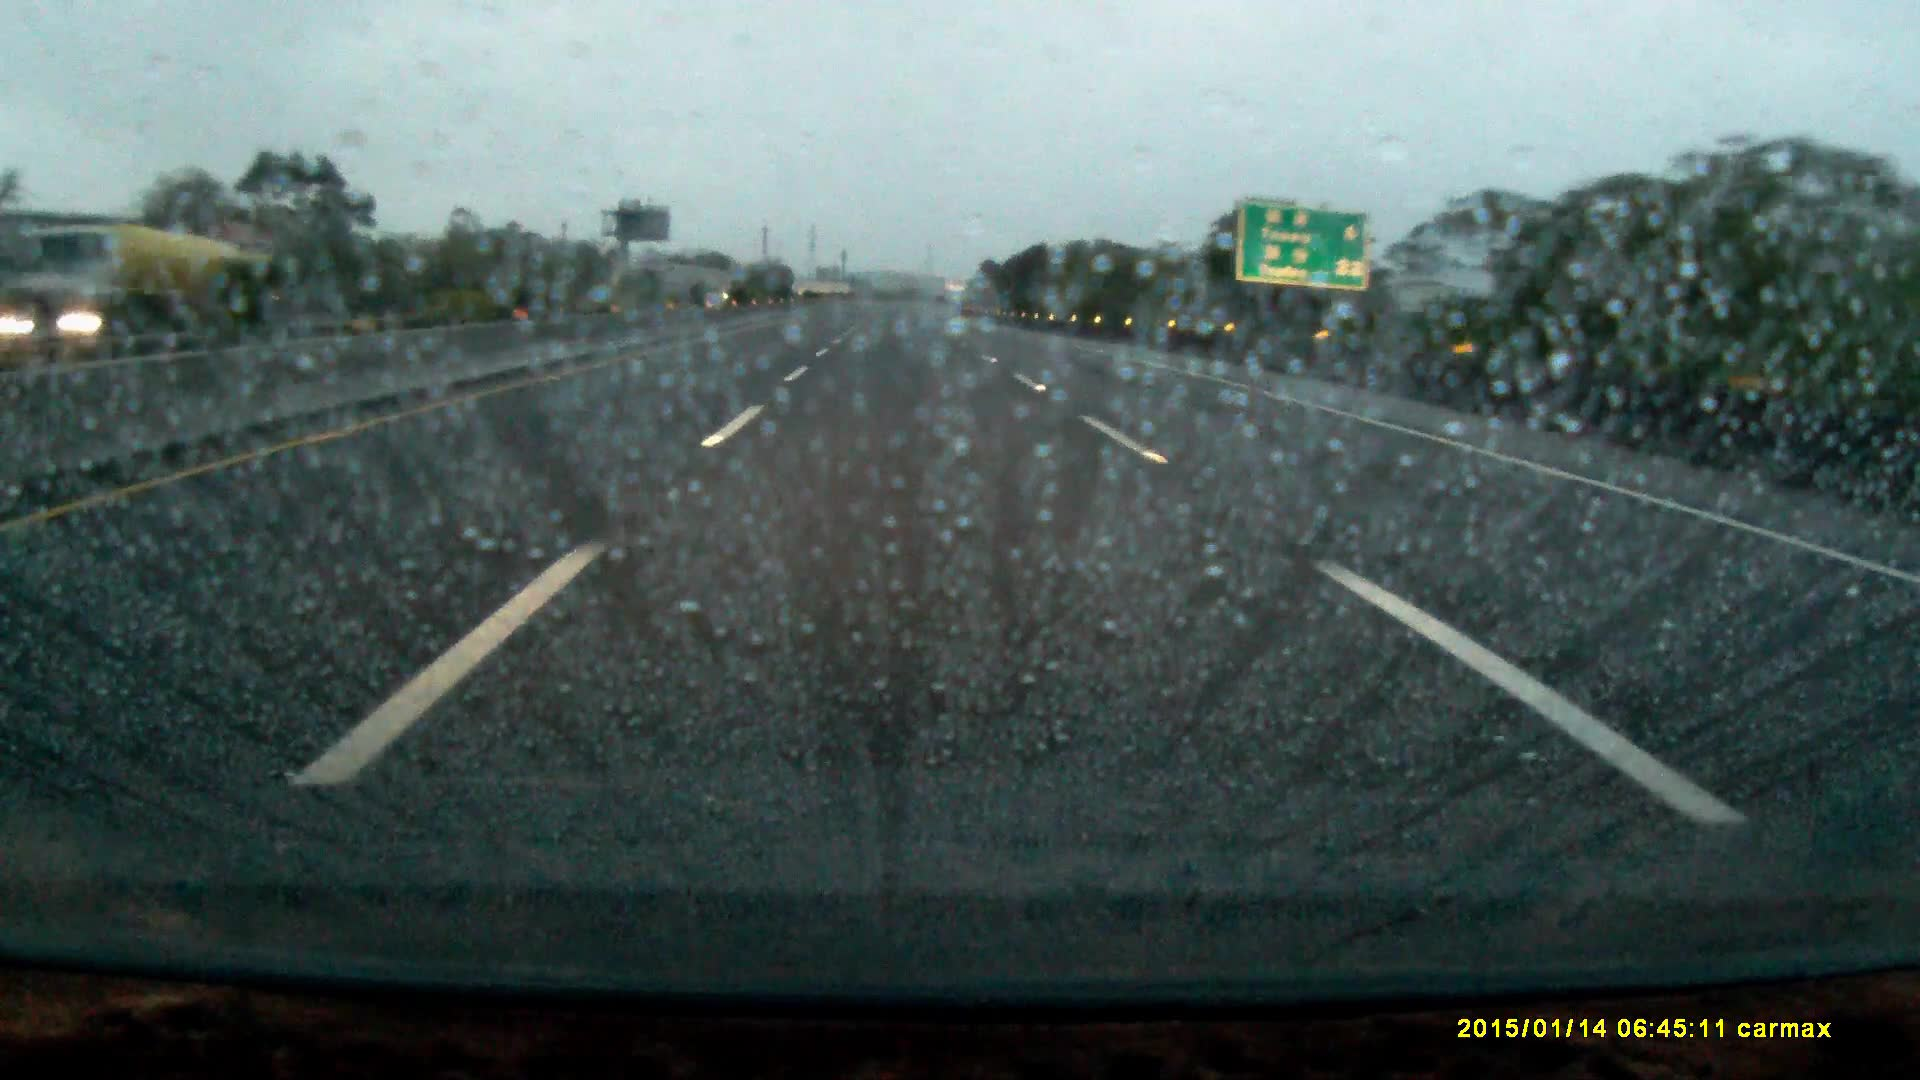vehicle: (49, 233, 262, 330), (1, 285, 137, 367)
